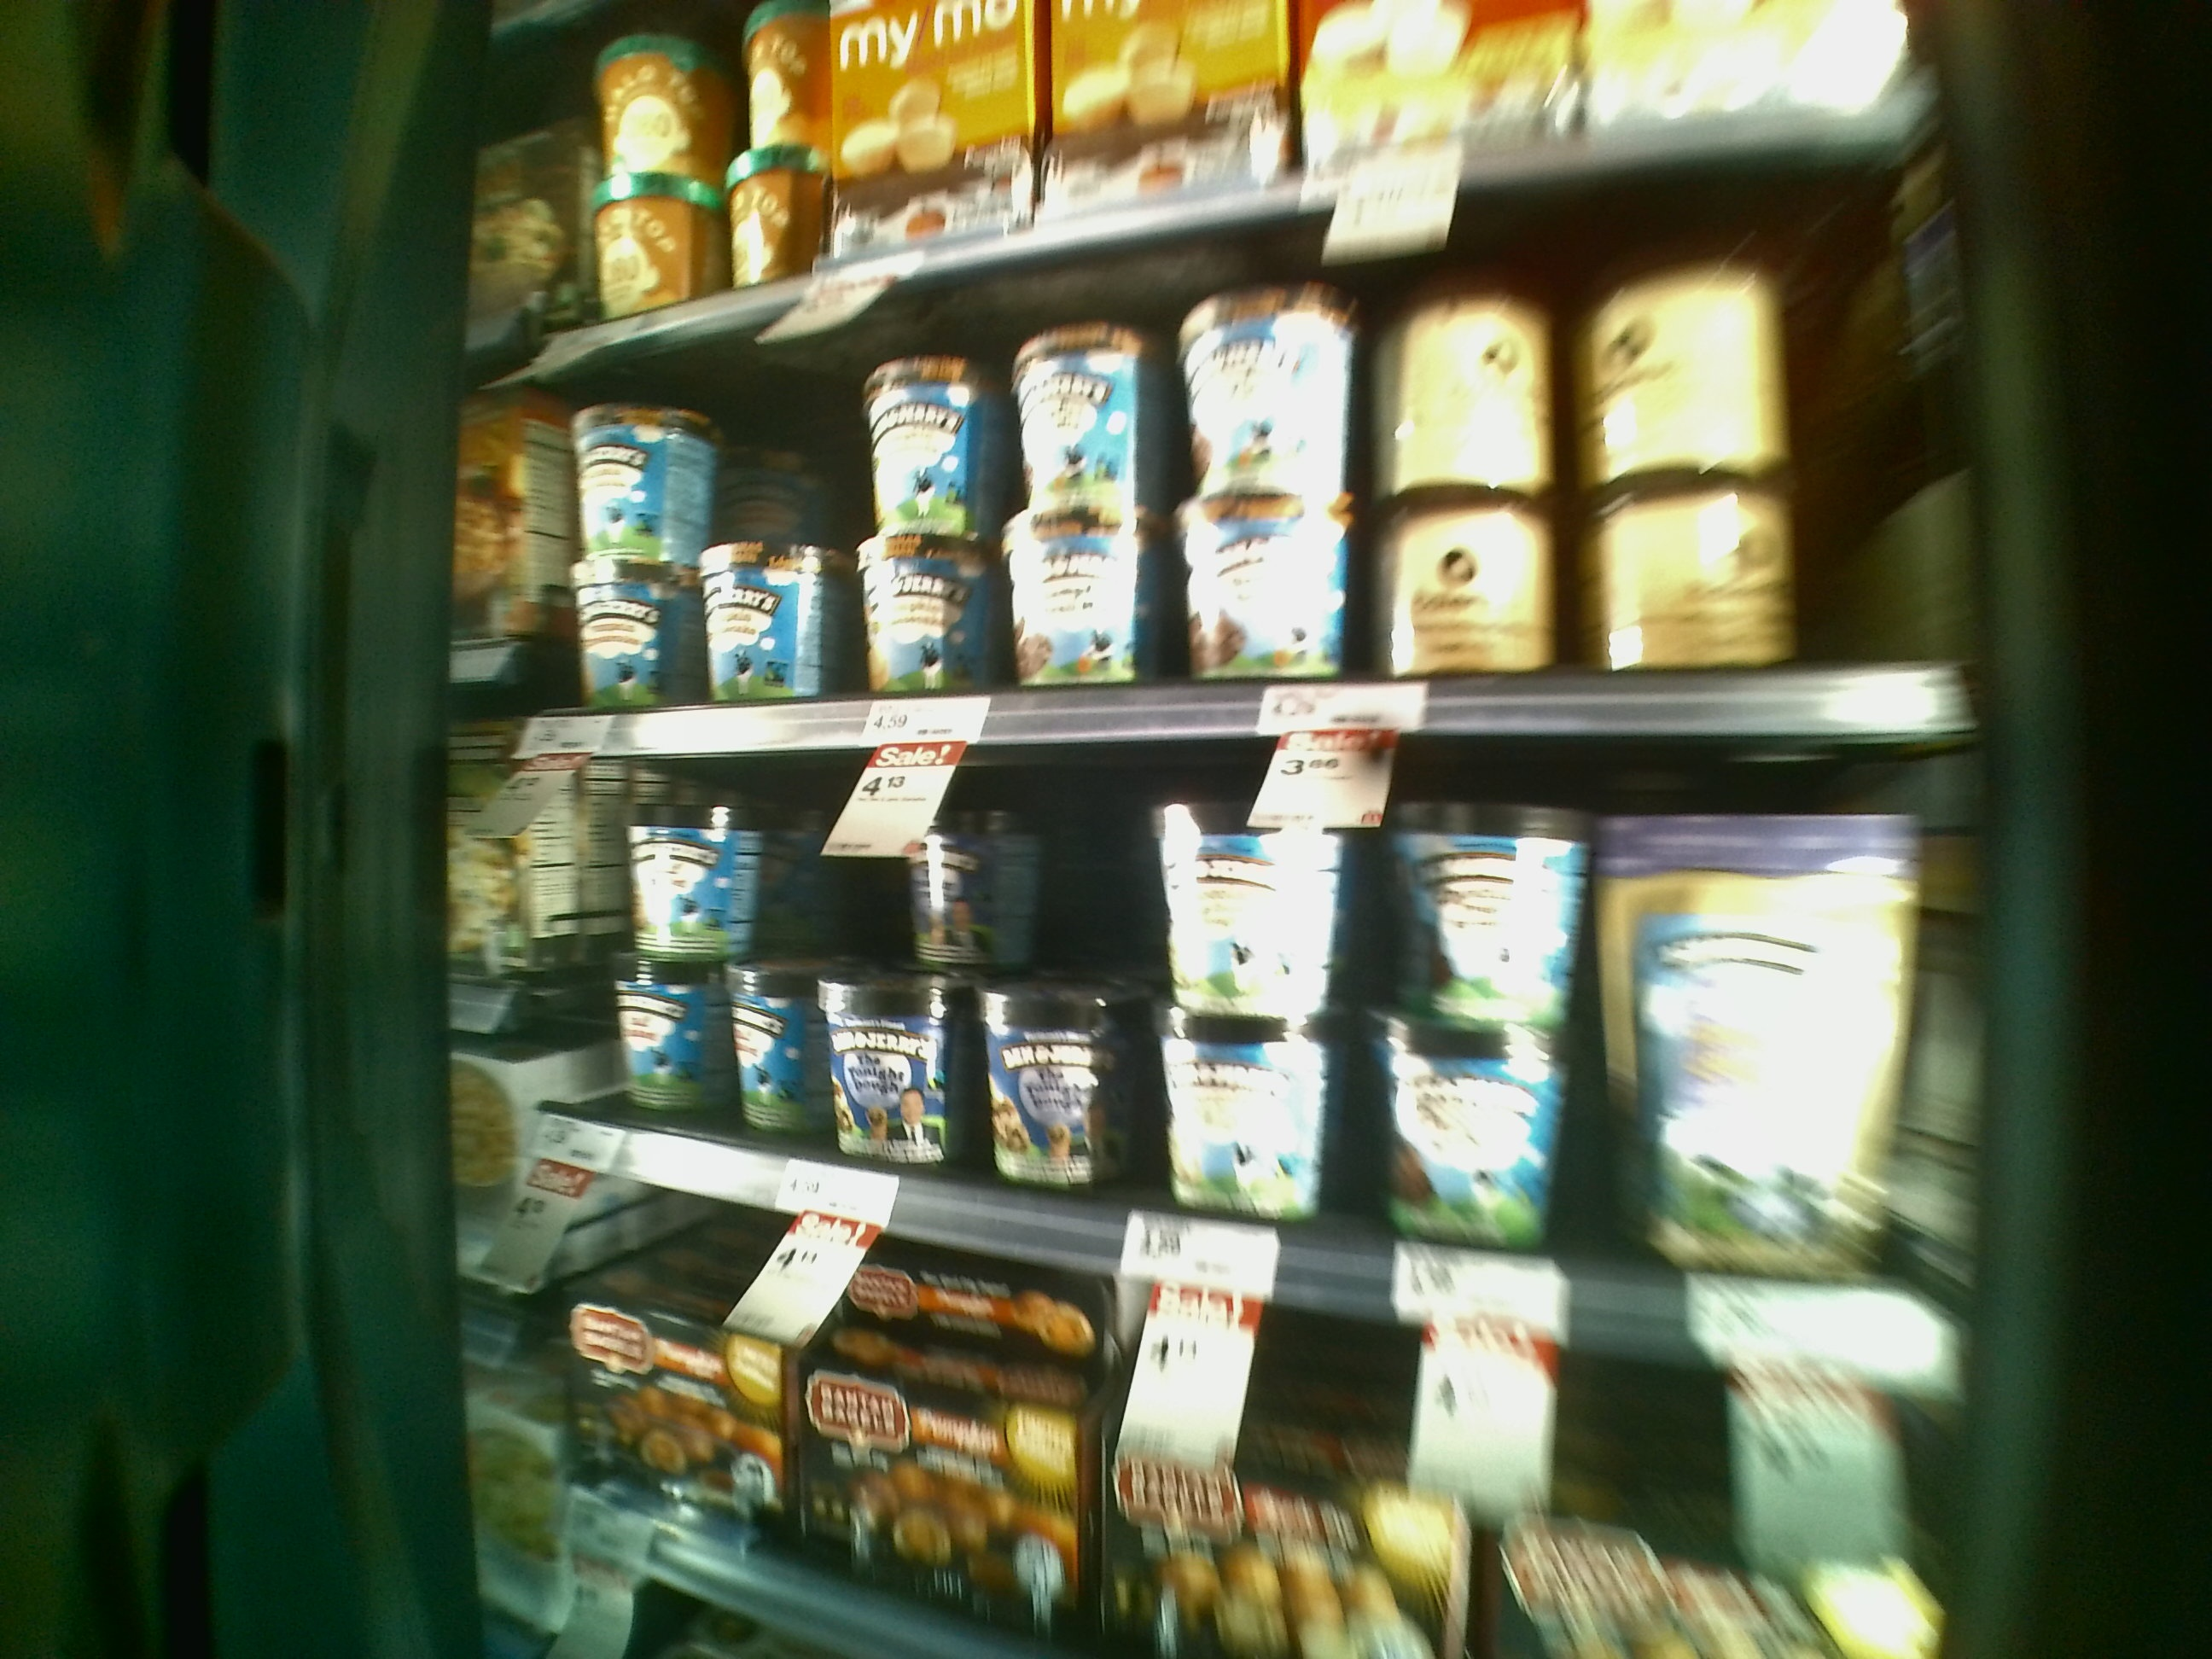shelf: (529, 718, 1956, 1378), (547, 296, 1951, 748)
